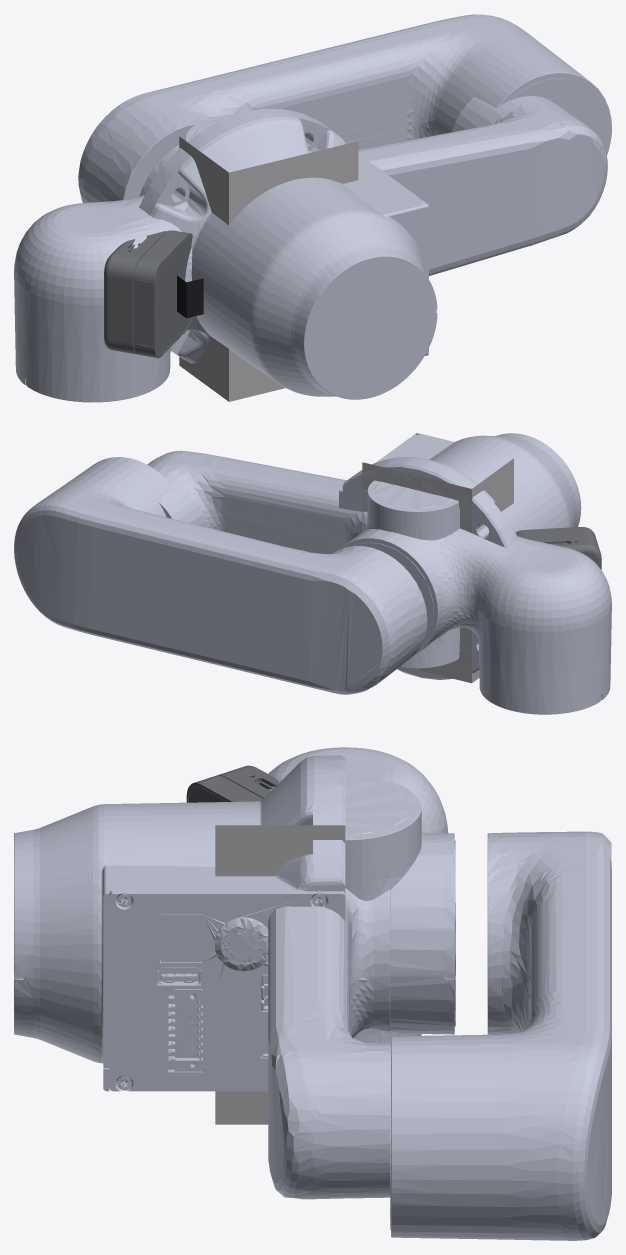
Rendered from arm.glb.
The picture shows the model from 3 angles, top to bottom: view 1: azimuth 30°, elevation 25°; view 2: azimuth 150°, elevation 25°; view 3: azimuth 270°, elevation 25°; orthographic projection. The views are drawn at different scales.
Visible parts, largest first — view 1: b1, b3, b4, b2, b9, b7; view 2: b3, b2, b1, b4, b9, b6, b5; view 3: b1, b3, b4, b2, b9, b6.
Boxes of the visible parts, x1,y1,x2,y2 form: b1: (139, 109, 437, 399); b3: (78, 14, 611, 202); b4: (358, 96, 607, 275); b2: (14, 145, 192, 402); b9: (104, 136, 358, 401); b7: (177, 275, 203, 318); b3: (14, 457, 427, 694); b2: (339, 528, 611, 714); b1: (339, 433, 581, 679); b4: (147, 450, 447, 637); b9: (362, 458, 601, 683); b6: (367, 480, 459, 650); b5: (400, 628, 459, 668); b1: (14, 755, 345, 1091); b3: (390, 831, 611, 1240); b4: (268, 888, 390, 1199); b2: (268, 747, 455, 1034); b9: (186, 765, 345, 1124); b6: (345, 775, 421, 1043).
Bounding box in the file's own units: 0.2816 × 0.1099 × 0.1841.
